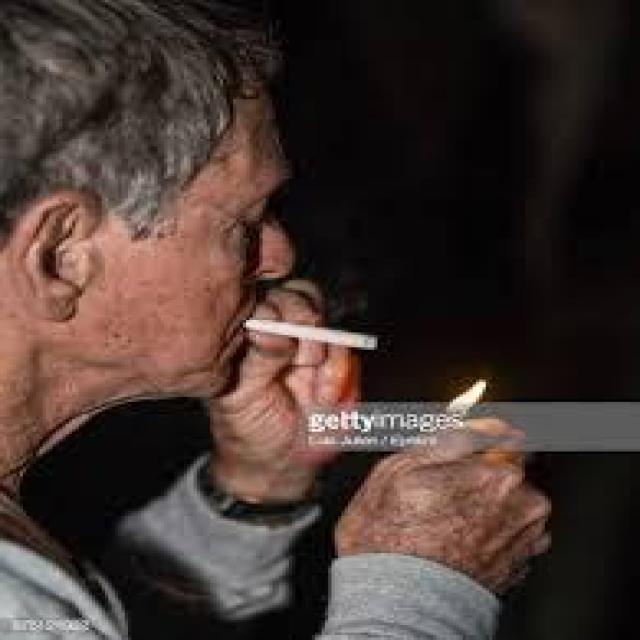fire: (433, 368, 492, 421)
